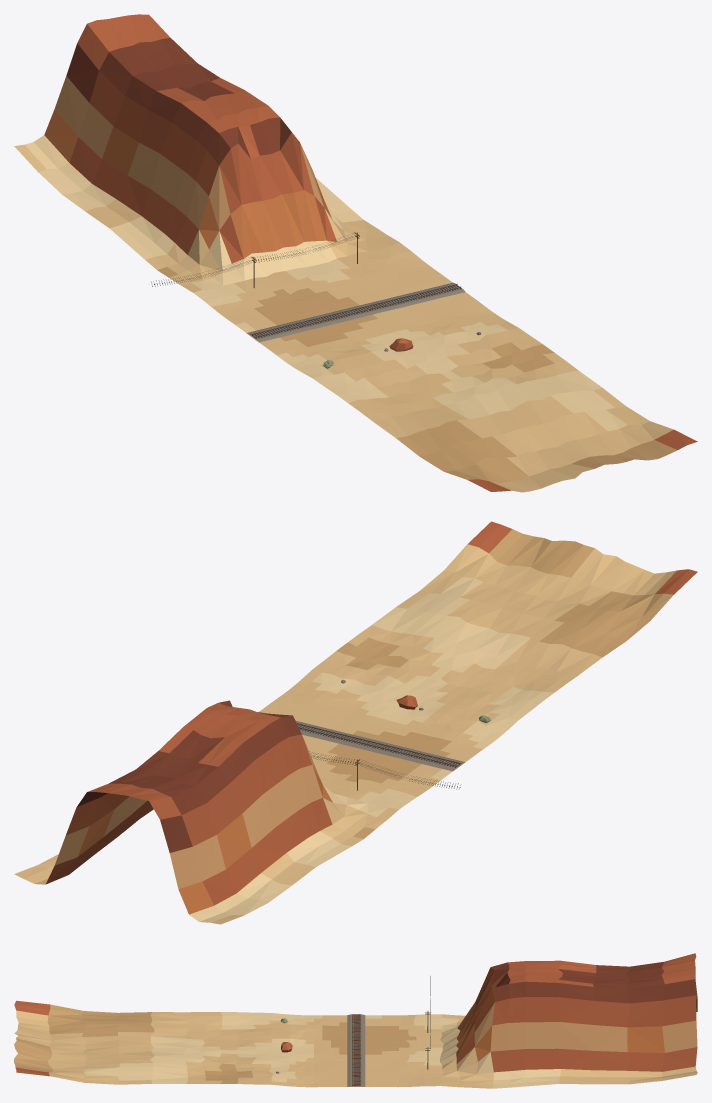
File: SM_FG_Chunk_Canyon_B.fbx
3 views of the same model, one above another, from view 1: azimuth 30°, elevation 25°; view 2: azimuth 150°, elevation 25°; view 3: azimuth 270°, elevation 25° (orthographic). The views are drawn at different scales.
Visible parts, largest first — view 1: FG_Chunk_Canyon_B_Ground, FG_Chunk_Canyon_B_Track, FG_Chunk_Canyon_B_SceneryNear; view 2: FG_Chunk_Canyon_B_Ground, FG_Chunk_Canyon_B_Track, FG_Chunk_Canyon_B_SceneryNear; view 3: FG_Chunk_Canyon_B_Ground, FG_Chunk_Canyon_B_Track, FG_Chunk_Canyon_B_SceneryNear.
Part boxes in pixels (left/top/right/bottom): FG_Chunk_Canyon_B_Ground: left=14, top=14, right=697, bottom=492; FG_Chunk_Canyon_B_Track: left=246, top=282, right=465, bottom=342; FG_Chunk_Canyon_B_SceneryNear: left=151, top=232, right=480, bottom=368; FG_Chunk_Canyon_B_Ground: left=14, top=521, right=697, bottom=924; FG_Chunk_Canyon_B_Track: left=258, top=712, right=465, bottom=771; FG_Chunk_Canyon_B_SceneryNear: left=309, top=679, right=490, bottom=790; FG_Chunk_Canyon_B_Ground: left=14, top=953, right=697, bottom=1088; FG_Chunk_Canyon_B_Track: left=347, top=1014, right=365, bottom=1086; FG_Chunk_Canyon_B_SceneryNear: left=276, top=976, right=430, bottom=1073.
Size of the model in its own units: 6250 by 20111 by 2893.
